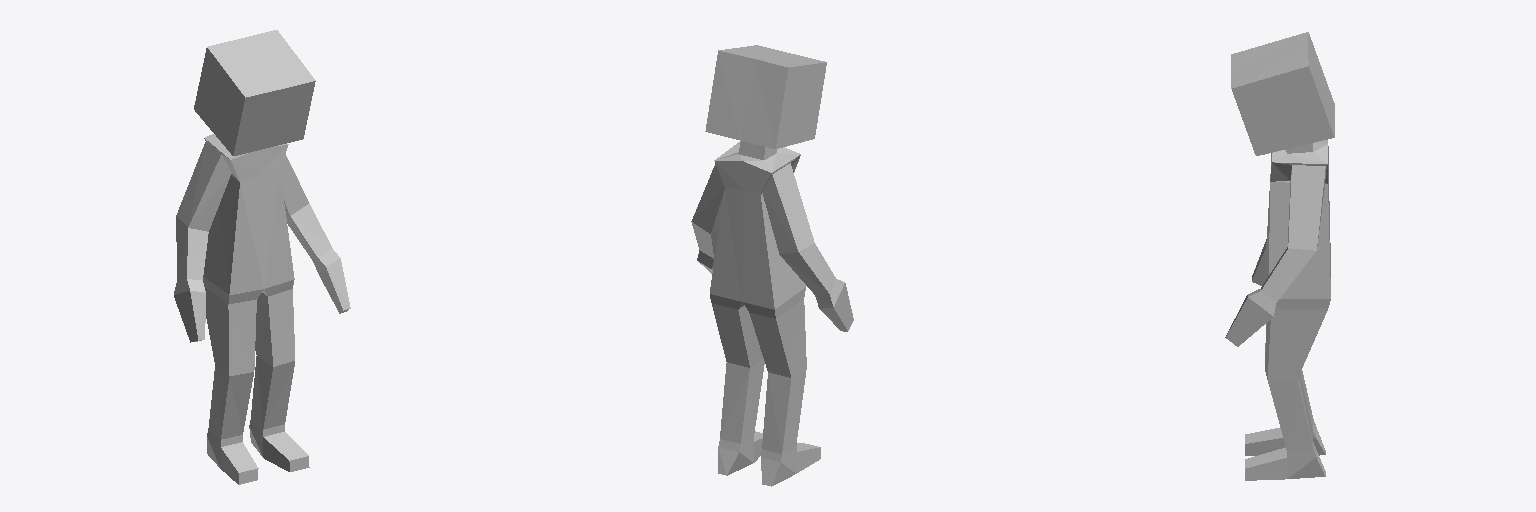
The picture shows the model from 3 angles: view 1: azimuth 30°, elevation 25°; view 2: azimuth 150°, elevation 25°; view 3: azimuth 270°, elevation 25°; orthographic projection.
Parts seen in each view (by area): view 1: Proxy; view 2: Proxy; view 3: Proxy.
Boxes of the visible parts, box(x1,y1,x2,y2) form: Proxy: box(174, 30, 350, 484); Proxy: box(691, 45, 853, 486); Proxy: box(1225, 32, 1334, 480).
Bounding box in the file's own units: 21.73 × 58.12 × 13.87.